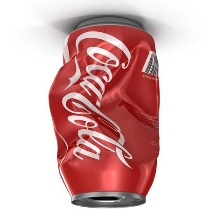can: (47, 9, 164, 208)
